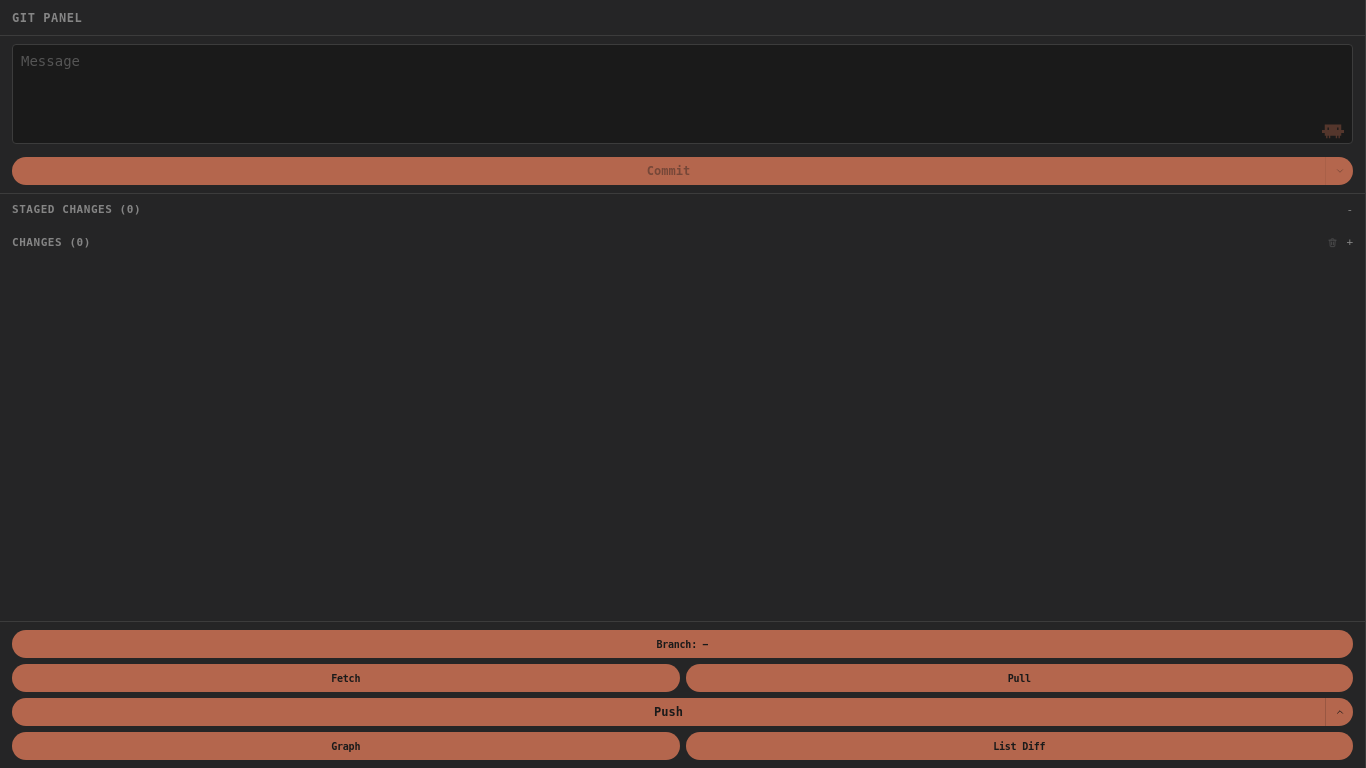
Test: GitPanel — push options (force push) › Publish Branch is disabled when there is no current branch
What coordinates should you click on to do the following:
click the button named "Push options"
I would click on:
 (1339, 712)
Its box is [1325, 698, 1353, 726].
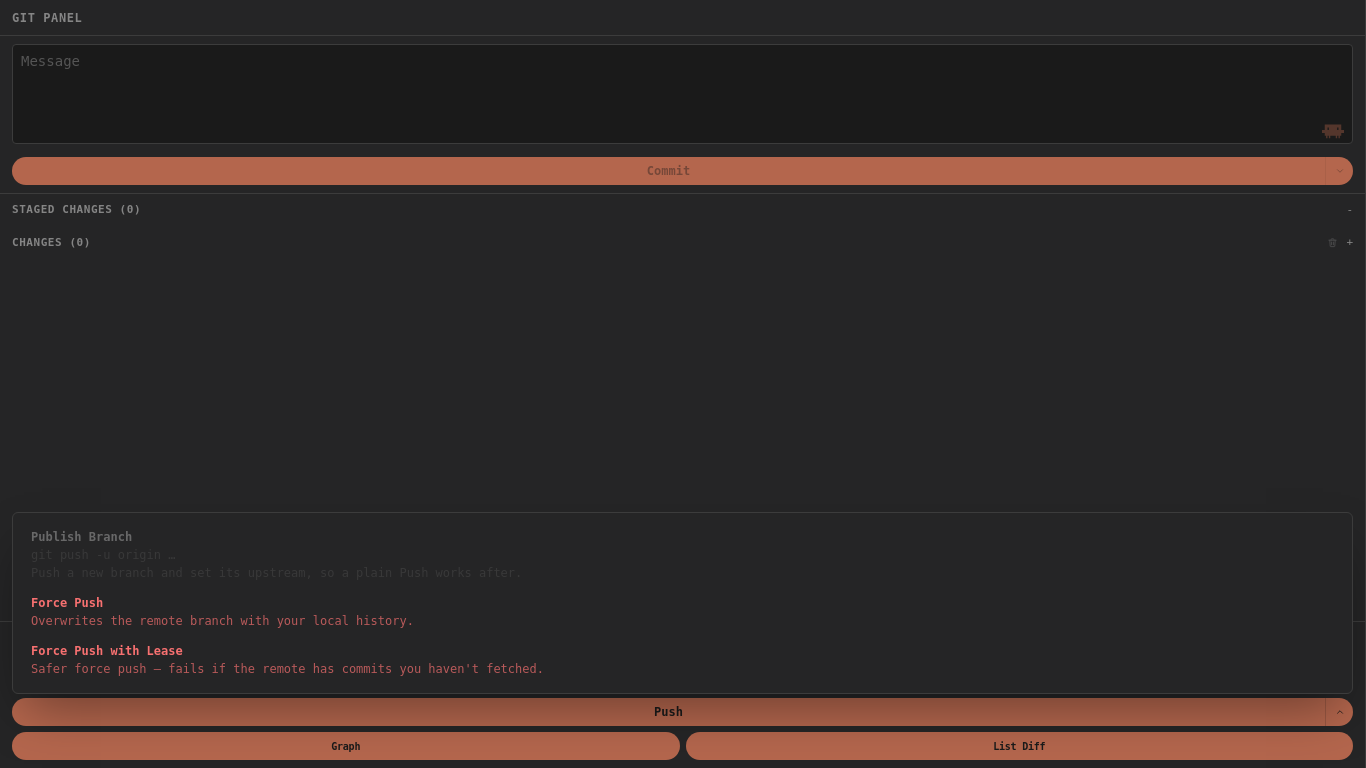
Expected: the button "Publish Branch" is disabled, [23, 523, 1342, 587]
